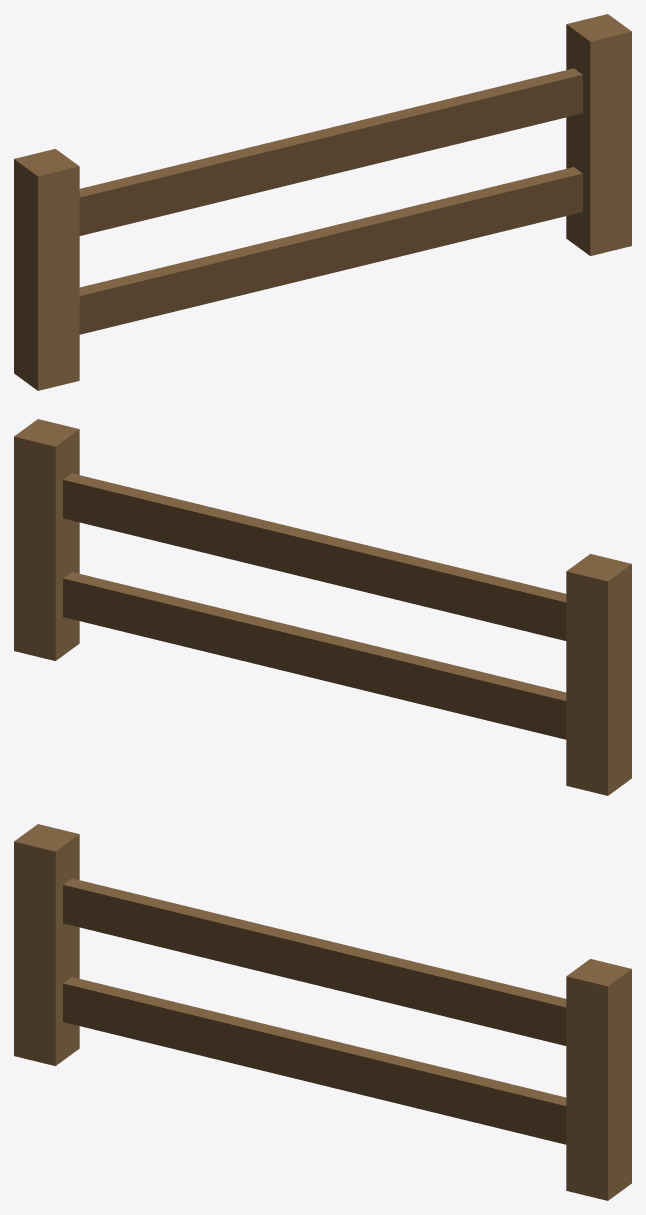
Rendered from fence.glb.
3 views of the same model, one above another, from view 1: azimuth 30°, elevation 25°; view 2: azimuth 150°, elevation 25°; view 3: azimuth 330°, elevation 25° (orthographic).
Parts seen in each view (by area): view 1: fence_simple; view 2: fence_simple; view 3: fence_simple.
Boxes of the visible parts, box(x1,y1,x2,y2) form: fence_simple: box(14, 14, 631, 390); fence_simple: box(14, 419, 631, 795); fence_simple: box(14, 824, 631, 1200).
Bounding box in the file's own units: 2.9 × 1 × 0.2029.
